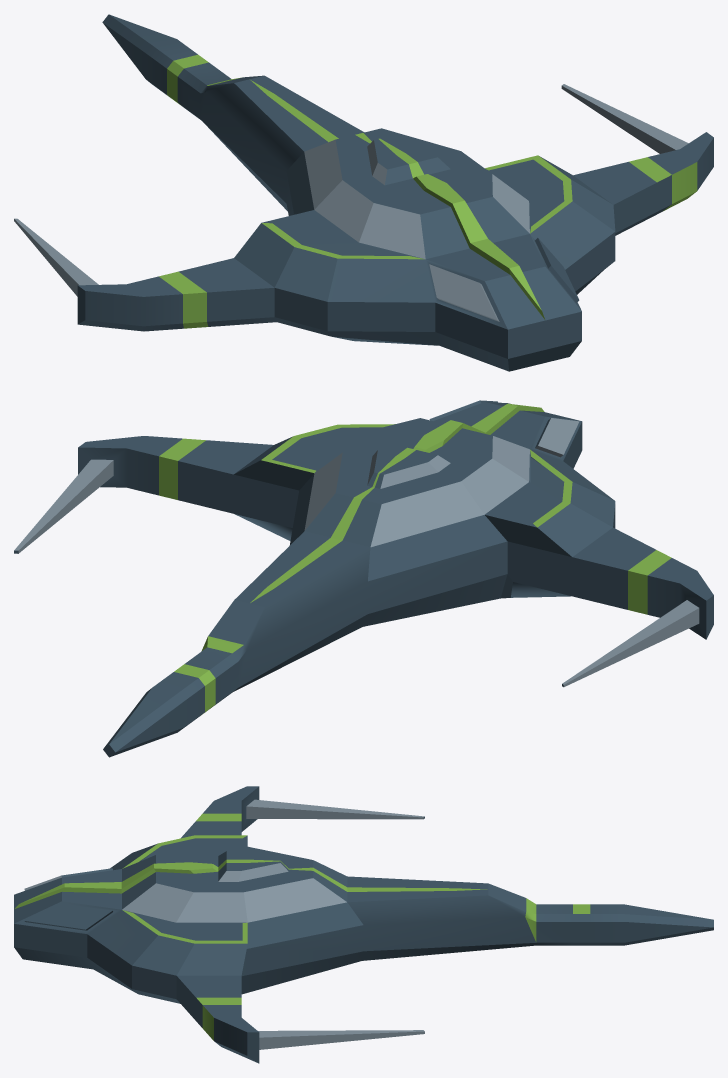
File: space_ship_variation2_model.fbx
3 views of the same model, one above another, from view 1: azimuth 30°, elevation 25°; view 2: azimuth 150°, elevation 25°; view 3: azimuth 270°, elevation 25° (orthographic). The views are drawn at different scales.
Visible parts, largest first — view 1: pCube1; view 2: pCube1; view 3: pCube1.
Part boxes in pixels (x1,y1,x2,y2): pCube1: [14, 14, 713, 371]; pCube1: [14, 400, 713, 757]; pCube1: [14, 786, 713, 1063].
Size of the model in its own units: 16.76 by 3.03 by 20.14.
1 material, 1 textured.
